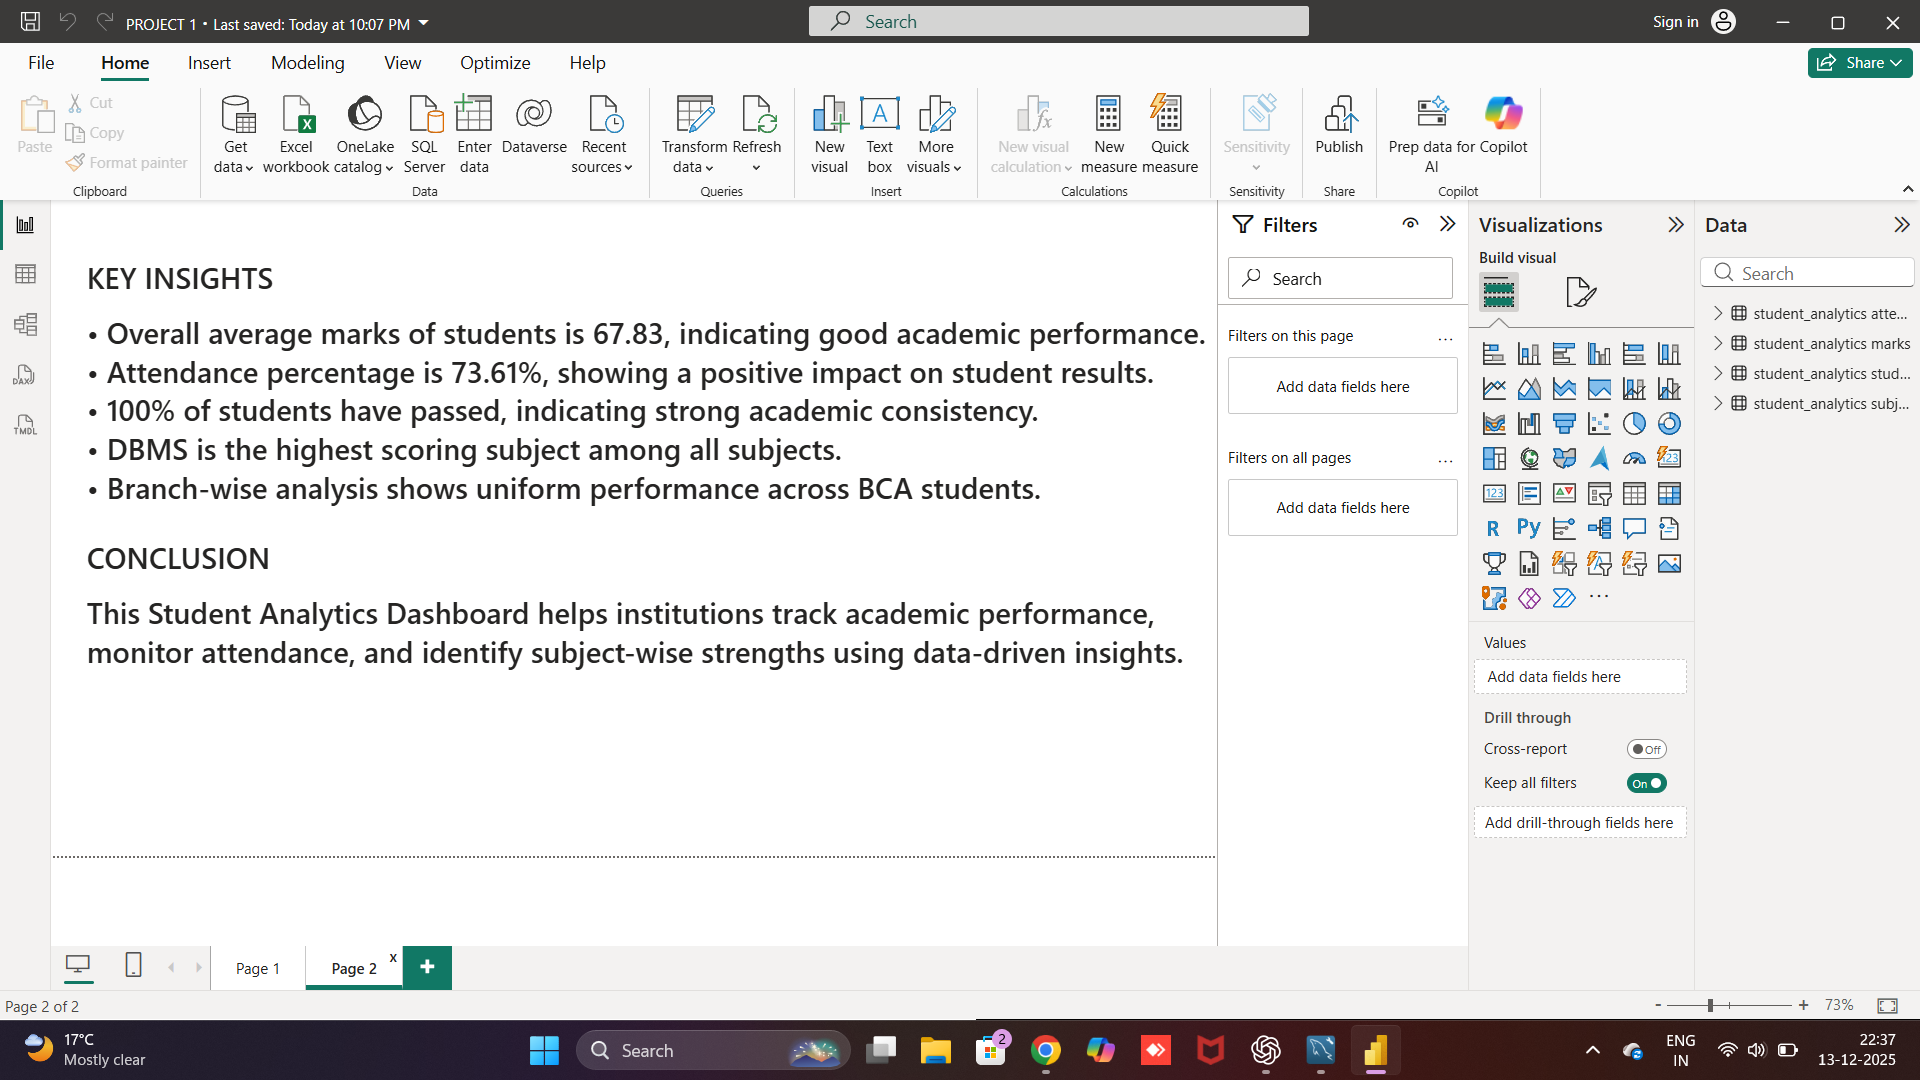

What the dashboard file says about the page in this screenshot:
{"tool":"powerbi","page":{"name":"Page 2","canvas":[1280,720],"ordinal":1},"visuals":[{"type":"textbox","box":[34.3,59,1246,569.5],"z":1}]}

Visuals, with their boxes on the page's 1280x720 design canvas (x1, y1, x2, y2). These are canvas units, not pixel positions in the 1920x1080 screenshot, which may show the page scaled, cropped or inside an application window:
textbox: <region>34, 59, 1280, 628</region>
